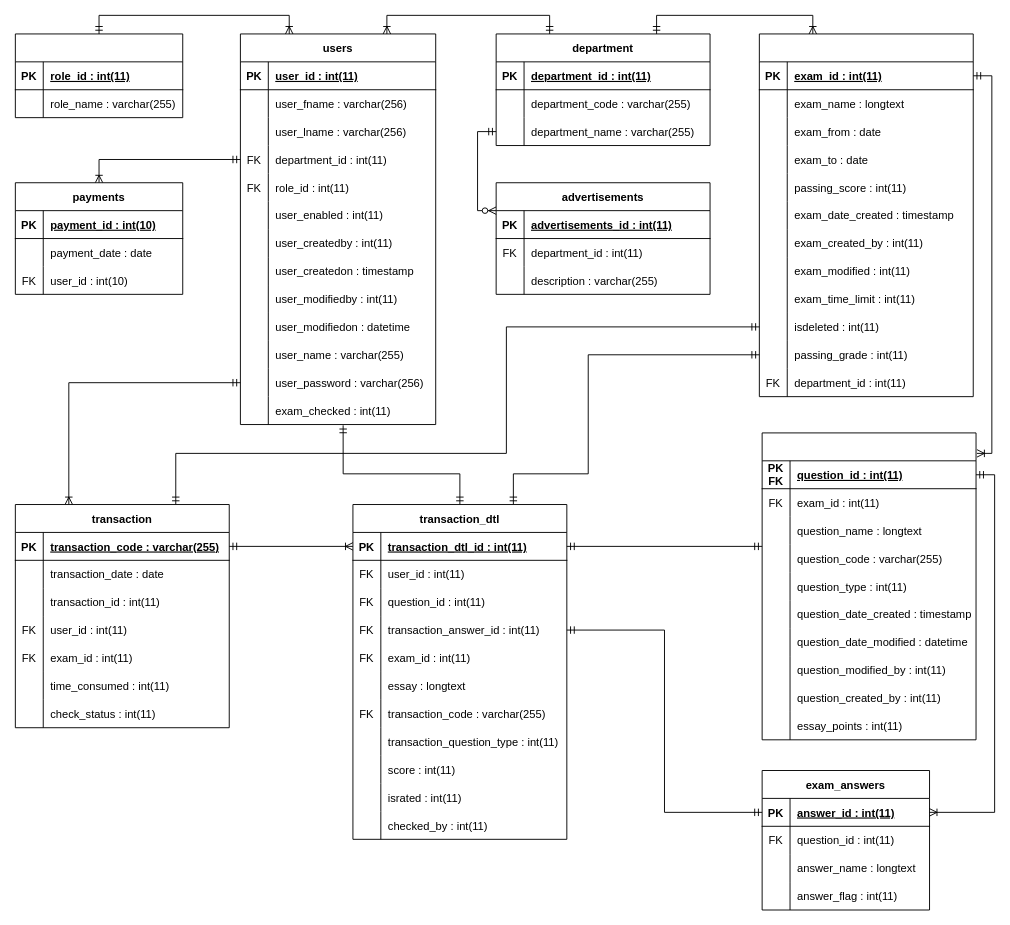
Image size: 1010x925. Some labels were removed from this diagram. The shapes that lost their labels are listed below. From the top down, each one's box as (x1, y1, x2, y2) in pixels, then its label:
(14, 33, 183, 118): user_roles
(758, 33, 973, 397): exams
(761, 432, 976, 740): exam_question
